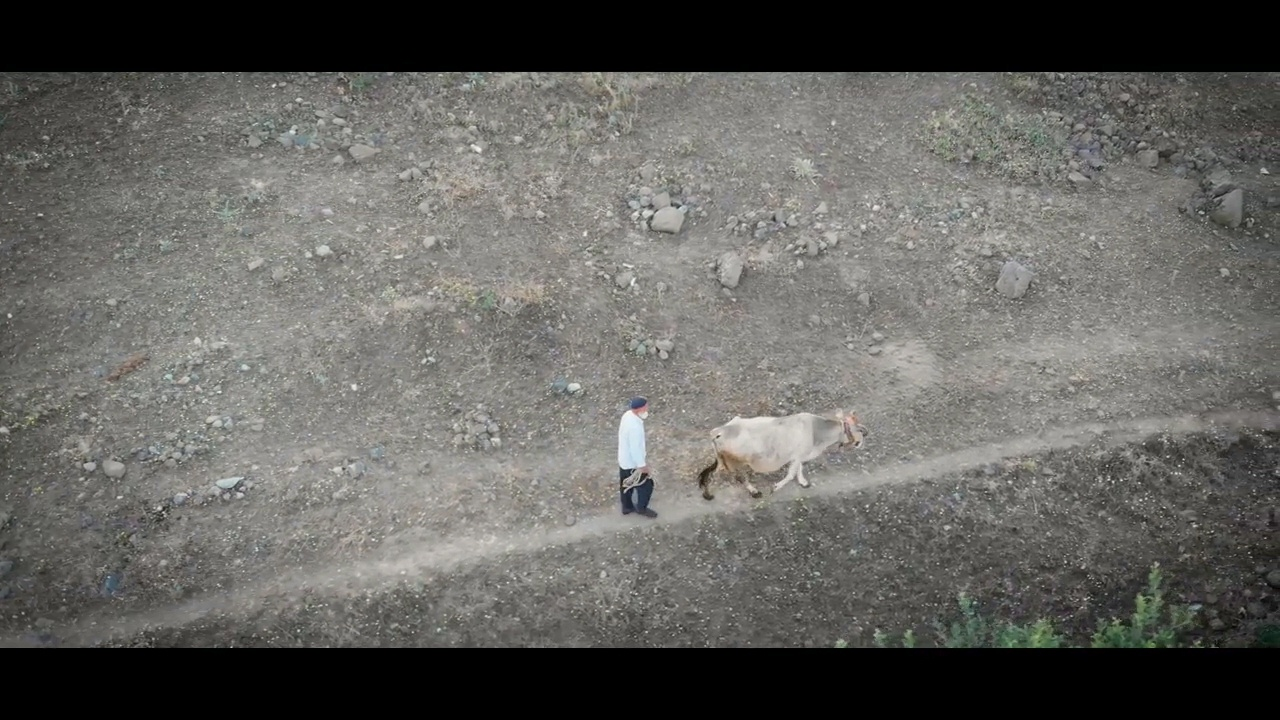insan: (616, 392, 659, 522)
